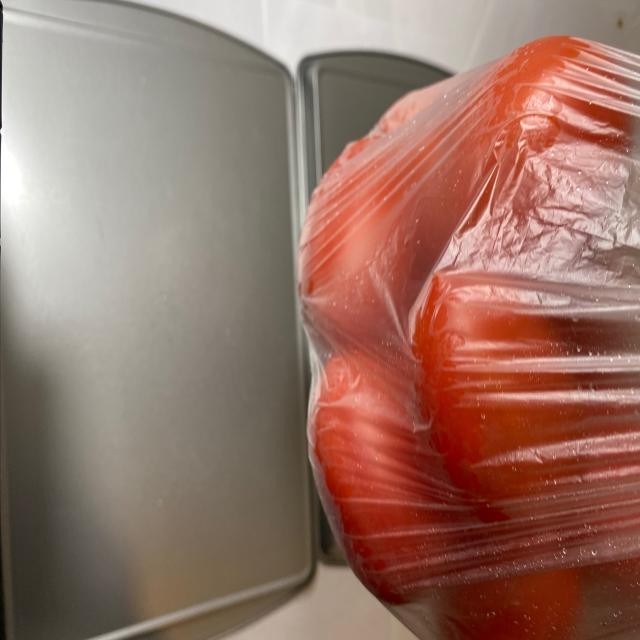tomato: (300, 38, 627, 638)
